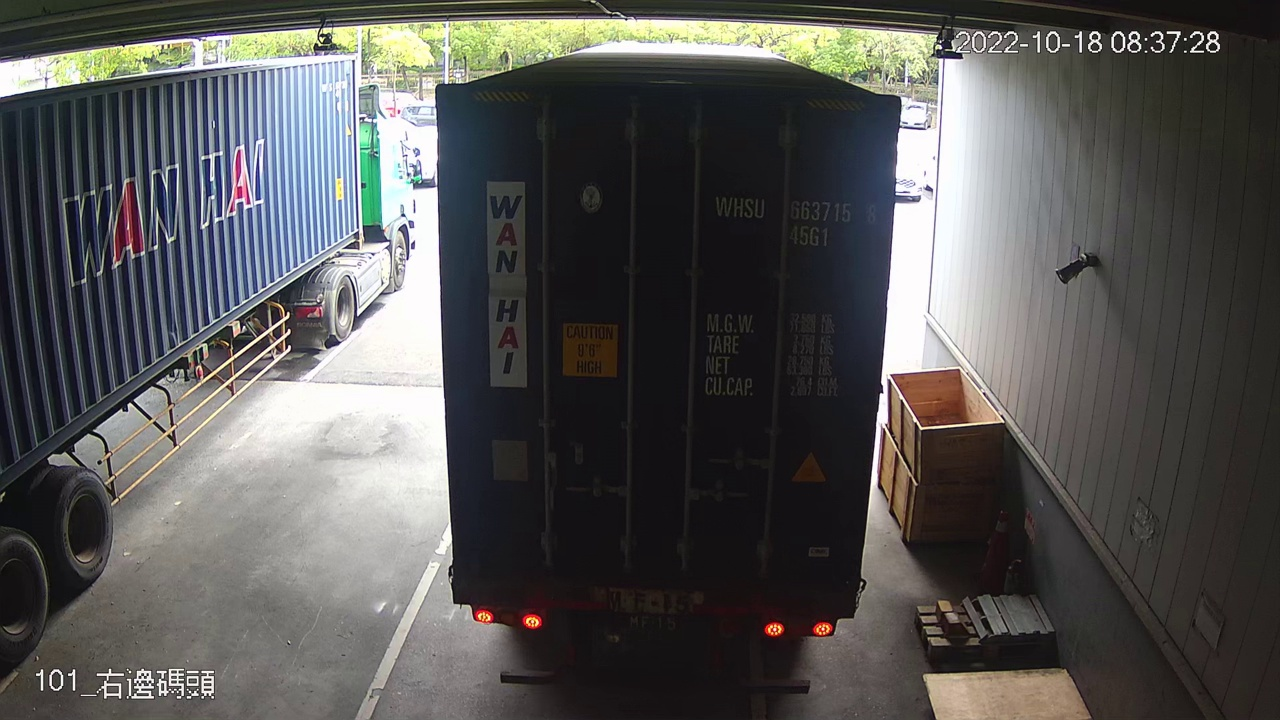container: (708, 186, 883, 253)
